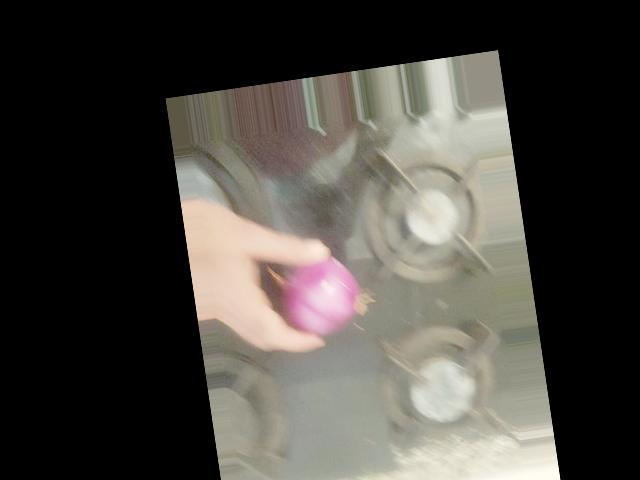onion: (270, 250, 365, 345)
